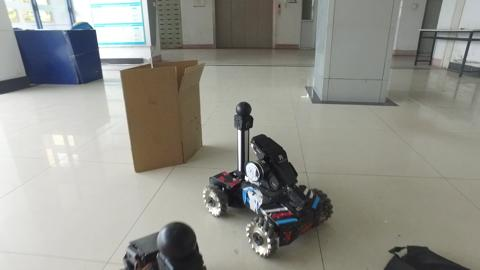box: (119, 56, 201, 167)
chariot: (204, 100, 337, 258)
